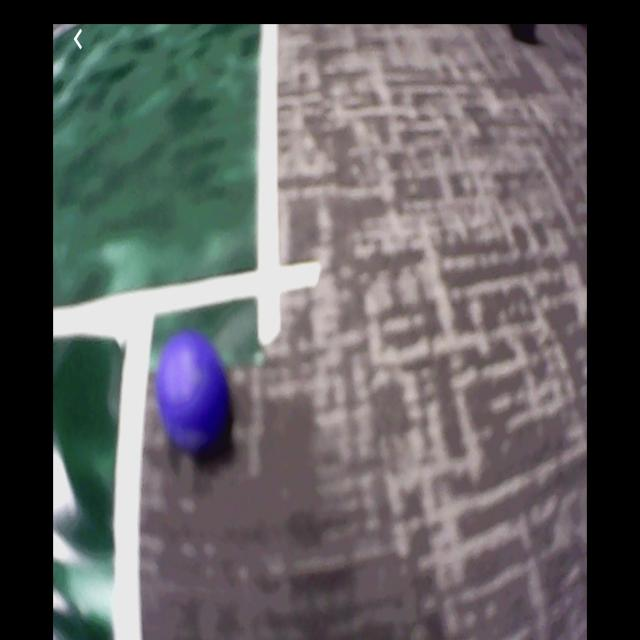ball: (156, 335, 233, 449)
